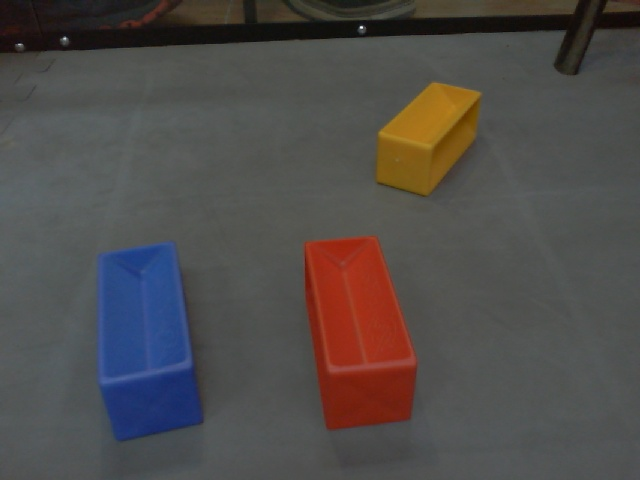BlueSample: (92, 240, 206, 446)
RedSample: (300, 235, 418, 430)
YellowSample: (375, 79, 482, 199)
